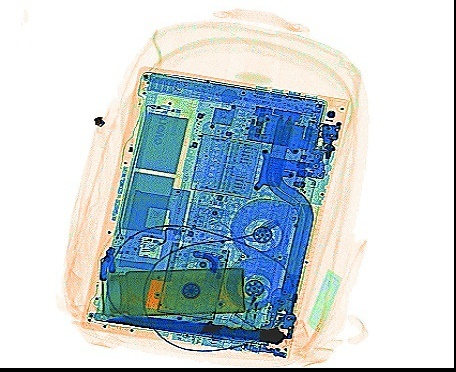knife: (102, 314, 285, 345)
